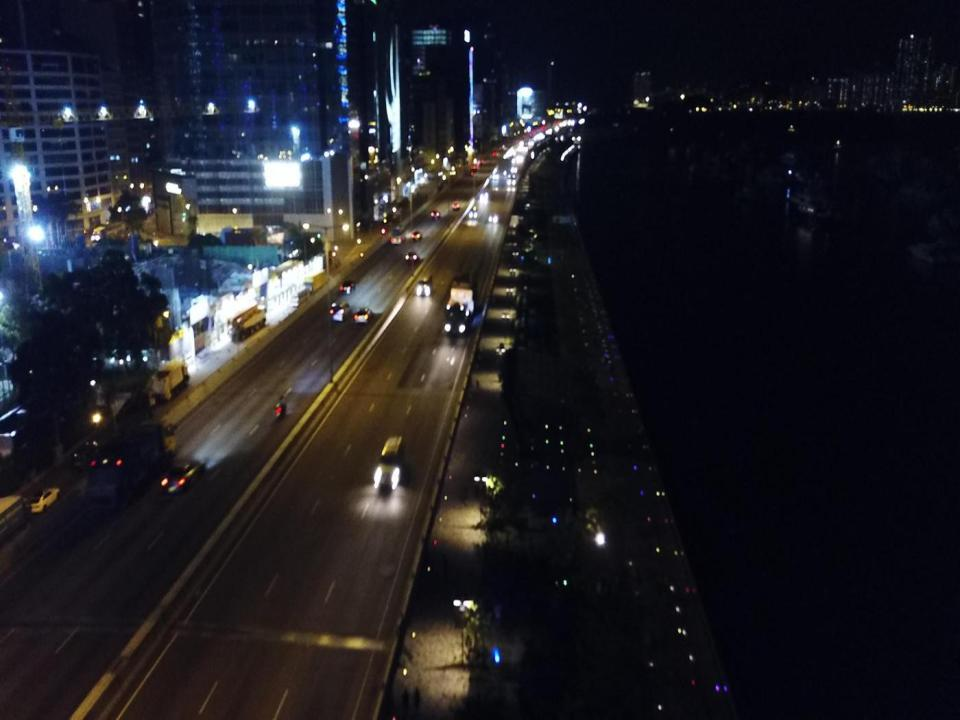bus: (417, 273, 433, 295), (390, 227, 407, 244), (354, 308, 373, 323)
car: (163, 459, 205, 490), (29, 484, 60, 514), (339, 280, 356, 294), (410, 229, 421, 242), (405, 252, 418, 262), (469, 207, 479, 220), (488, 214, 500, 223), (479, 191, 489, 201), (431, 210, 440, 221), (451, 203, 460, 210)
truck: (87, 422, 176, 505), (446, 270, 476, 336), (147, 358, 190, 401), (229, 303, 266, 341), (304, 269, 328, 294)
van: (376, 436, 406, 490), (72, 441, 103, 470), (290, 287, 311, 309), (331, 300, 351, 322), (90, 227, 106, 241)
